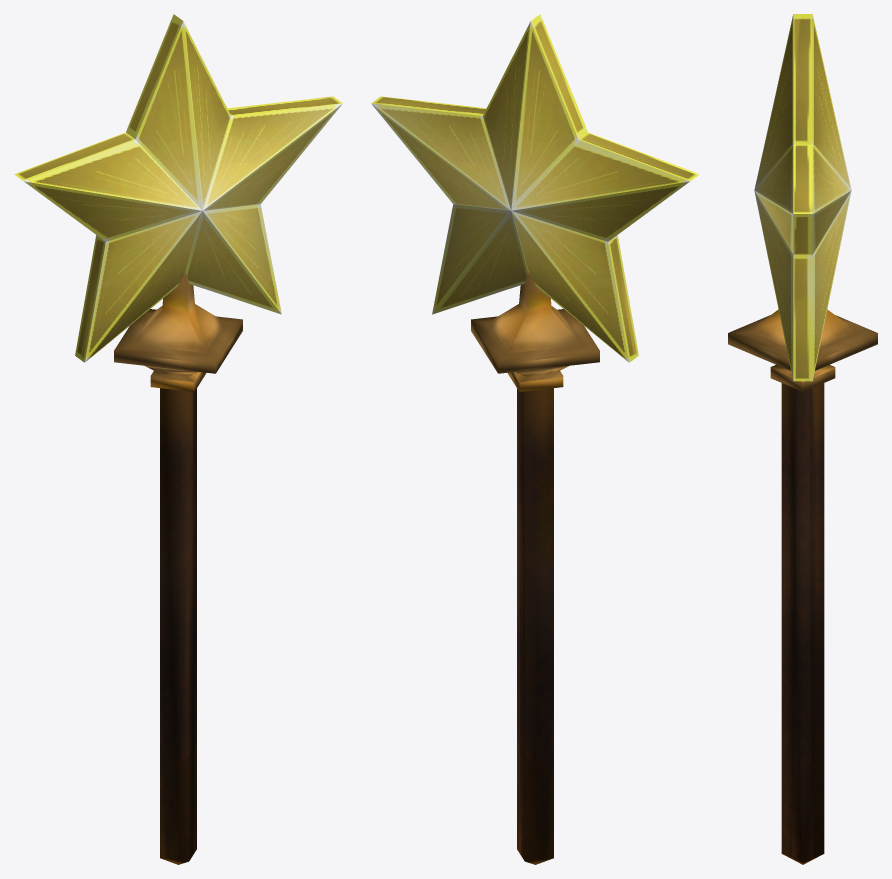
File: Wand.glb
3 renders of one model, left to right at view 1: azimuth 30°, elevation 25°; view 2: azimuth 150°, elevation 25°; view 3: azimuth 270°, elevation 25°, orthographic.
Parts seen in each view (by area): view 1: Cylinder.001, Cylinder.002, Cylinder.003; view 2: Cylinder.001, Cylinder.002, Cylinder.003; view 3: Cylinder.001, Cylinder.002, Cylinder.003.
Part boxes in pixels (x1,y1,x2,y2): Cylinder.001: [14, 14, 342, 362]; Cylinder.002: [160, 388, 196, 864]; Cylinder.003: [114, 272, 242, 391]; Cylinder.001: [371, 14, 699, 362]; Cylinder.002: [517, 388, 553, 864]; Cylinder.003: [471, 272, 599, 391]; Cylinder.001: [754, 14, 851, 381]; Cylinder.002: [781, 383, 824, 864]; Cylinder.003: [728, 309, 877, 391].
Bounding box in the file's own units: 0.2964 × 0.7519 × 0.12.
1 material, 1 textured.
